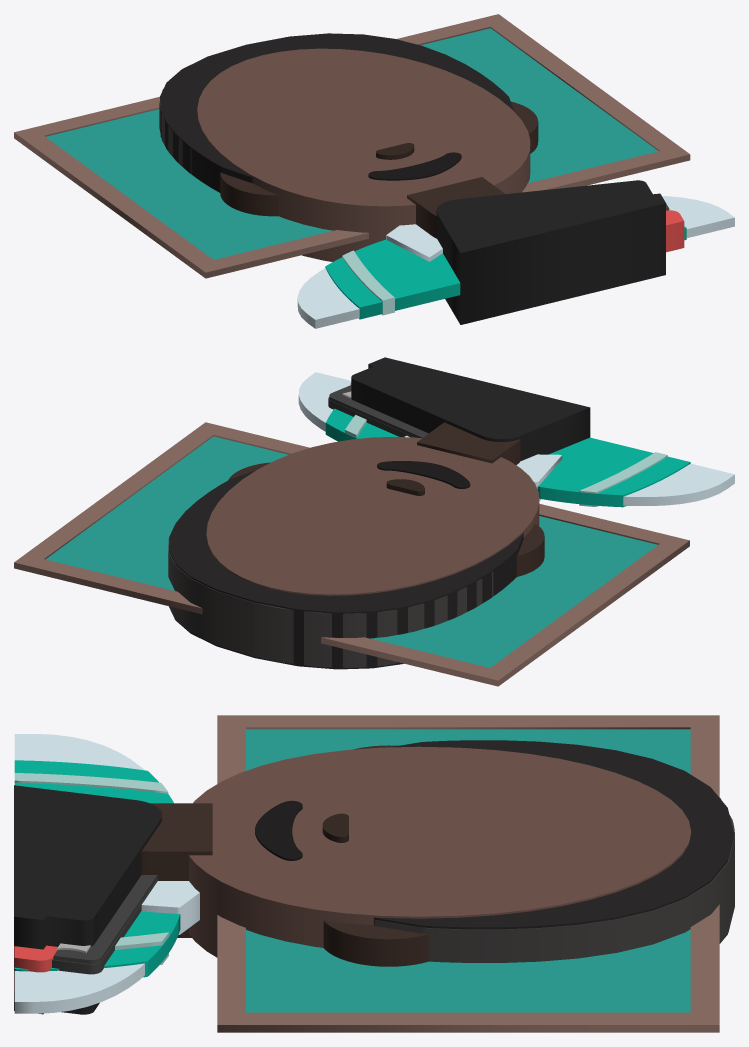
File: emoji_u1f468_1f3ff_200d_1f3eb.glb
3 views of the same model, one above another, from view 1: azimuth 30°, elevation 25°; view 2: azimuth 150°, elevation 25°; view 3: azimuth 270°, elevation 25° (orthographic). The views are drawn at different scales.
Visible parts, largest first — view 1: emoji_u1f468_1f3ff_200d_1f3eb; view 2: emoji_u1f468_1f3ff_200d_1f3eb; view 3: emoji_u1f468_1f3ff_200d_1f3eb.
Boxes of the visible parts, box(x1,y1,x2,y2) form: emoji_u1f468_1f3ff_200d_1f3eb: box(14, 14, 734, 328); emoji_u1f468_1f3ff_200d_1f3eb: box(14, 357, 734, 686); emoji_u1f468_1f3ff_200d_1f3eb: box(14, 715, 734, 1032).
Bounding box in the file's own units: 0.0338 × 0.0048 × 0.0333.
